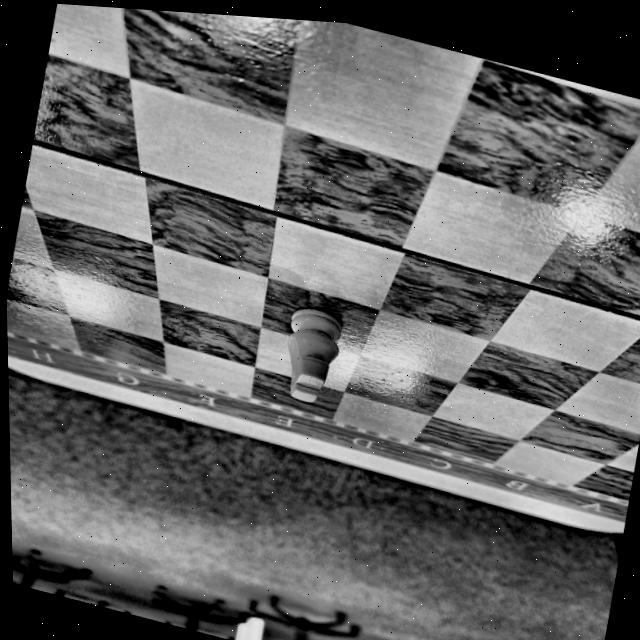white-knight: (287, 307, 343, 402)
